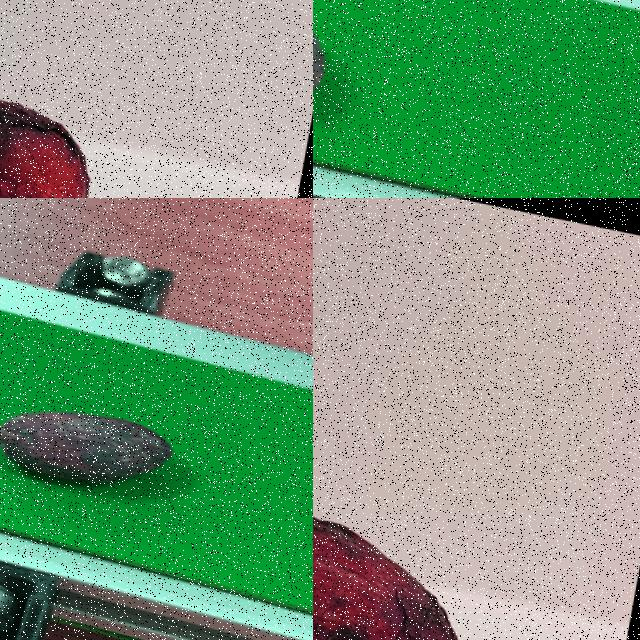Fine_cocoabeans: (0, 342, 275, 556), (313, 435, 587, 639), (0, 0, 233, 197), (313, 0, 435, 159)
